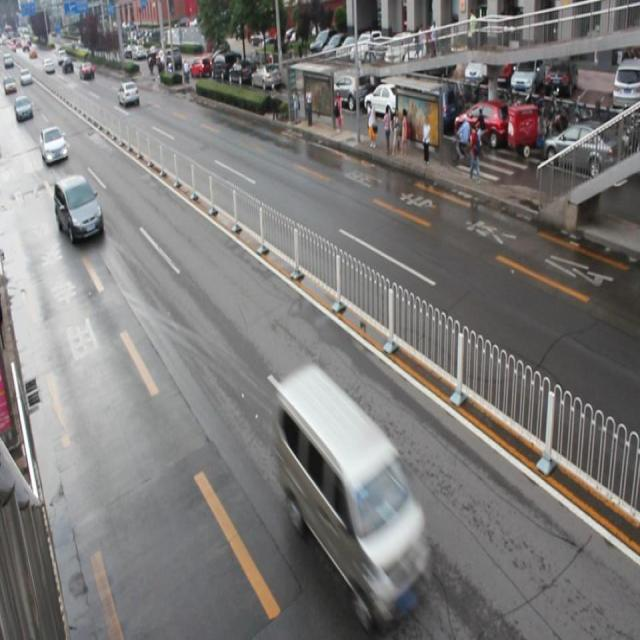car: (41, 125, 70, 167)
truck: (276, 363, 428, 610), (55, 175, 105, 243)
